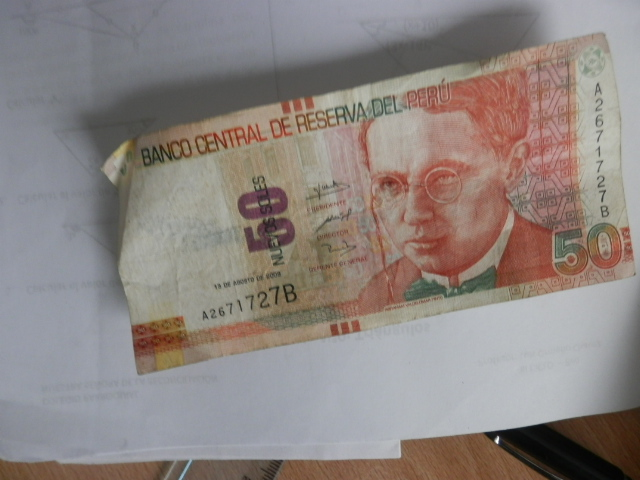B50: (116, 35, 637, 383)
